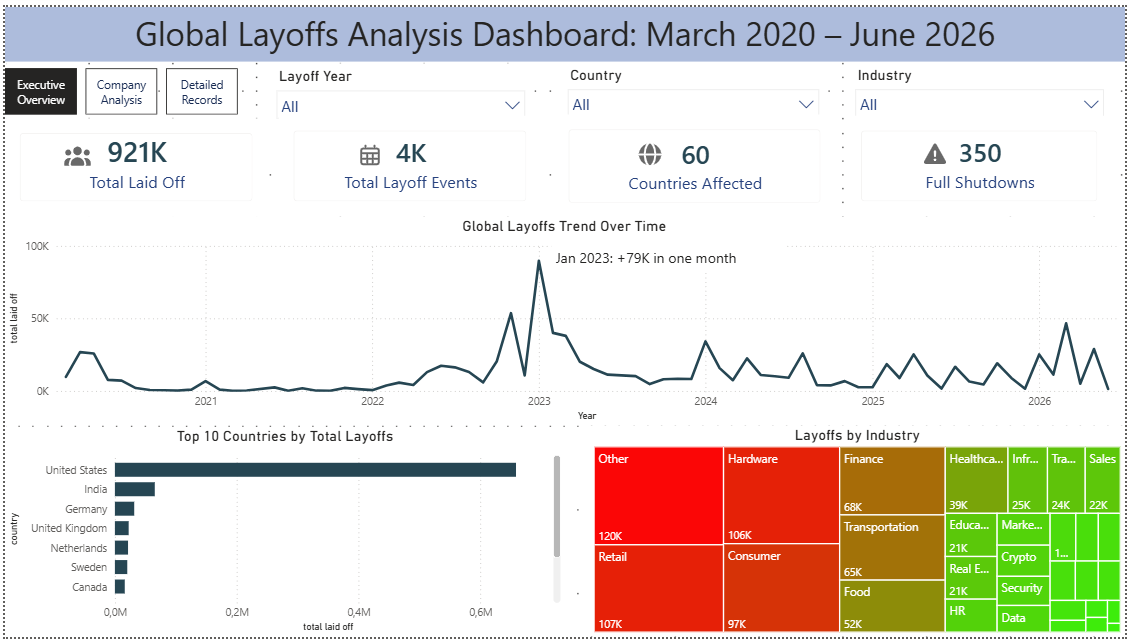

What the dashboard file says about the page in this screenshot:
{"tool":"powerbi","page":{"name":"Executive Overview","canvas":[1280,720],"ordinal":0},"visuals":[{"type":"textbox","box":[0,0,1280.3,62.7],"z":0},{"type":"cardVisual","fields":{"Data":["vw_layoffs_enriched.Display_Countries"]},"box":[626.6,123,322.5,118],"z":0,"group":"g2"},{"type":"cardVisual","fields":{"Data":["vw_layoffs_enriched.Total Layoff Events"]},"box":[313.3,124.4,300.5,115.3],"z":0,"group":"g1"},{"type":"cardVisual","fields":{"Data":["vw_layoffs_enriched.COUNT_full_shutdowns"]},"box":[961.9,124.4,304.6,115.3],"z":0,"group":"g3"},{"type":"cardVisual","fields":{"Data":["vw_layoffs_enriched.SUM_total_laid_off"]},"box":[0,127.6,300.5,112.5],"z":0,"group":"g4"},{"type":"image","box":[716.3,152.7,39.8,31.6],"z":1000,"group":"g2"},{"type":"image","box":[1042.9,152.7,39.8,31.6],"z":1000,"group":"g3"},{"type":"image","box":[397.9,153.7,39.8,31.6],"z":1000,"group":"g1"},{"type":"image","box":[63.1,155.6,39.8,30.4],"z":1000,"group":"g4"},{"type":"treemap","title":"Layoffs by Industry","fields":{"Group":["vw_layoffs_enriched.industry"],"Values":["Sum(vw_layoffs_enriched.total_laid_off)"]},"box":[668.8,479,611.2,241.1],"z":1000},{"type":"lineChart","title":"Global Layoffs Trend Over Time","fields":{"Y":["Sum(vw_layoffs_enriched.total_laid_off)"],"Category":["vw_layoffs_enriched.date.Variation.Date Hierarchy.Year","vw_layoffs_enriched.date.Variation.Date Hierarchy.Quarter","vw_layoffs_enriched.date.Variation.Date Hierarchy.Month"]},"box":[0,240.1,1278.9,238.8],"z":2000},{"type":"slicer","fields":{"Values":["vw_layoffs_enriched.layoff_year"]},"box":[300.5,64.5,304.6,63.1],"z":3000},{"type":"slicer","fields":{"Values":["vw_layoffs_enriched.country"]},"box":[632.6,63.1,307.4,63.1],"z":4000},{"type":"slicer","fields":{"Values":["vw_layoffs_enriched.industry"]},"box":[961.9,63.1,304.6,63.1],"z":5000},{"type":"clusteredBarChart","title":"Top 10 Countries by Total Layoffs","fields":{"Category":["vw_layoffs_enriched.country","vw_layoffs_enriched.industry"],"Y":["Sum(vw_layoffs_enriched.total_laid_off)"]},"box":[0,480,640,240],"z":6000},{"type":"textbox","box":[623.8,270.2,267.9,32.1],"z":7000},{"type":"pageNavigator","box":[0,70,267.6,53.5],"z":8000},{"type":"group","id":"g1","title":"Group 1","box":[313.3,124.4,300.5,115.3],"z":9000},{"type":"group","id":"g2","title":"Group 2","box":[626.6,123,322.5,118],"z":10000},{"type":"group","id":"g3","title":"Group 3","box":[961.9,124.4,304.6,115.3],"z":11000},{"type":"group","id":"g4","title":"Group 4","box":[0,127.6,300.5,112.5],"z":12000}]}

Visuals, with their boxes in screenshot pixels (x1, y1, x2, y2), scaled from the page's 1280x720 canvas onto the 1130x641 screenshot:
textbox: Rect(0, 0, 1129, 56)
cardVisual - vw_layoffs_enriched.Display_Countries: Rect(553, 110, 838, 215)
cardVisual - vw_layoffs_enriched.Total Layoff Events: Rect(277, 111, 542, 213)
cardVisual - vw_layoffs_enriched.COUNT_full_shutdowns: Rect(849, 111, 1118, 213)
cardVisual - vw_layoffs_enriched.SUM_total_laid_off: Rect(0, 114, 265, 214)
image: Rect(632, 136, 667, 164)
image: Rect(921, 136, 956, 164)
image: Rect(351, 137, 386, 165)
image: Rect(56, 139, 91, 166)
"Layoffs by Industry" treemap: Rect(590, 426, 1129, 640)
"Global Layoffs Trend Over Time" lineChart: Rect(0, 214, 1129, 426)
slicer - vw_layoffs_enriched.layoff_year: Rect(265, 57, 534, 114)
slicer - vw_layoffs_enriched.country: Rect(558, 56, 830, 112)
slicer - vw_layoffs_enriched.industry: Rect(849, 56, 1118, 112)
"Top 10 Countries by Total Layoffs" clusteredBarChart: Rect(0, 427, 565, 640)
textbox: Rect(551, 241, 787, 269)
pageNavigator: Rect(0, 62, 236, 110)
"Group 1" group: Rect(277, 111, 542, 213)
"Group 2" group: Rect(553, 110, 838, 215)
"Group 3" group: Rect(849, 111, 1118, 213)
"Group 4" group: Rect(0, 114, 265, 214)
